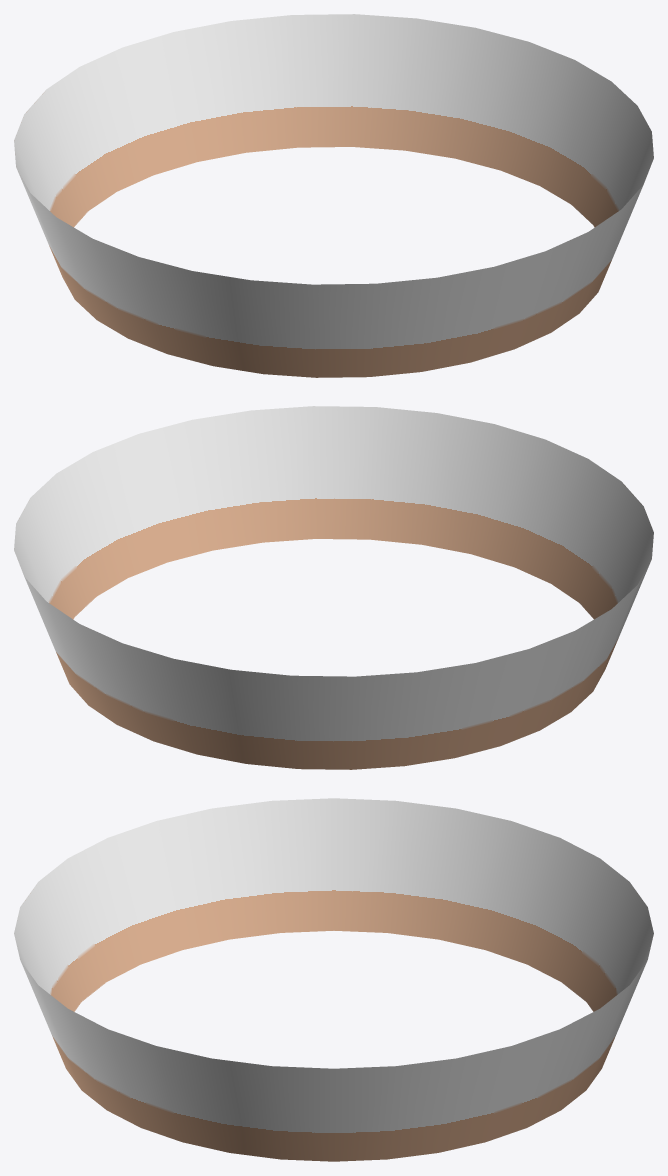
File: fogSphere.glb
3 renders of one model, top to bottom at view 1: azimuth 30°, elevation 25°; view 2: azimuth 150°, elevation 25°; view 3: azimuth 270°, elevation 25°, orthographic.
Visible parts, largest first — view 1: fog_sphere; view 2: fog_sphere; view 3: fog_sphere.
Boxes of the visible parts, x1=… form: fog_sphere: x1=14, y1=14, x2=653, y2=377; fog_sphere: x1=14, y1=406, x2=653, y2=769; fog_sphere: x1=14, y1=798, x2=653, y2=1161.
Bounding box in the file's own units: 1.97 × 0.3827 × 1.97.
Materials: 1 (1 with a texture image).
